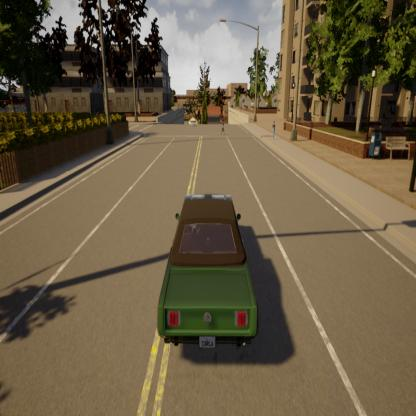Cars: (150, 186, 262, 367)
Pedestrian: (220, 117, 228, 137), (271, 120, 277, 142)
